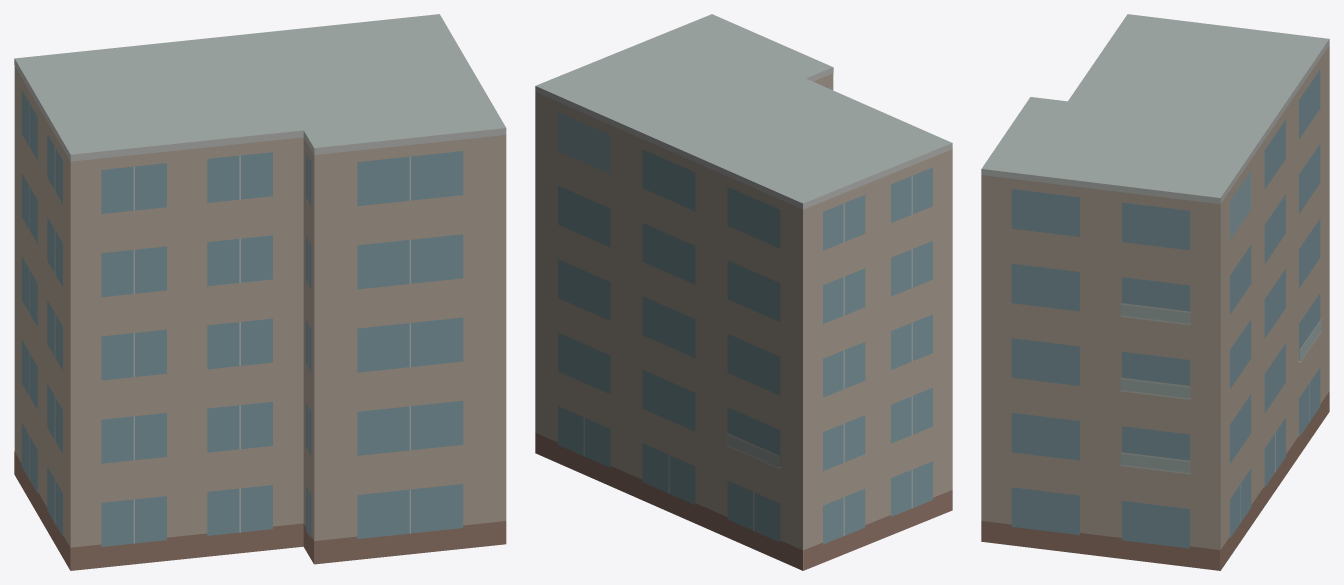
The model's file is survey-upis-32875369.glb.
The picture shows the model from 3 angles, left to right: view 1: azimuth 30°, elevation 25°; view 2: azimuth 150°, elevation 25°; view 3: azimuth 270°, elevation 25°; orthographic projection. The views are drawn at different scales.
Parts seen in each view (by area): view 1: survey-upis-32875369.tmp; view 2: survey-upis-32875369.tmp; view 3: survey-upis-32875369.tmp.
Part boxes in pixels (x1,y1,x2,y2): survey-upis-32875369.tmp: (14, 14, 506, 570); survey-upis-32875369.tmp: (535, 14, 952, 570); survey-upis-32875369.tmp: (981, 14, 1329, 570).
Bounding box in the file's own units: 15.58 × 14.7 × 12.45.
